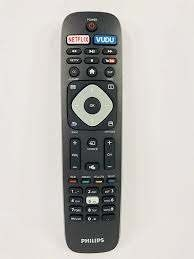remote control: (57, 9, 125, 252)
